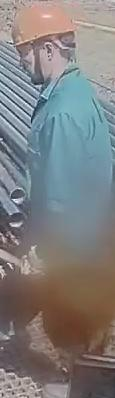gloves: (19, 241, 51, 281)
helmet: (10, 1, 77, 47)
vest: (26, 63, 113, 259)
